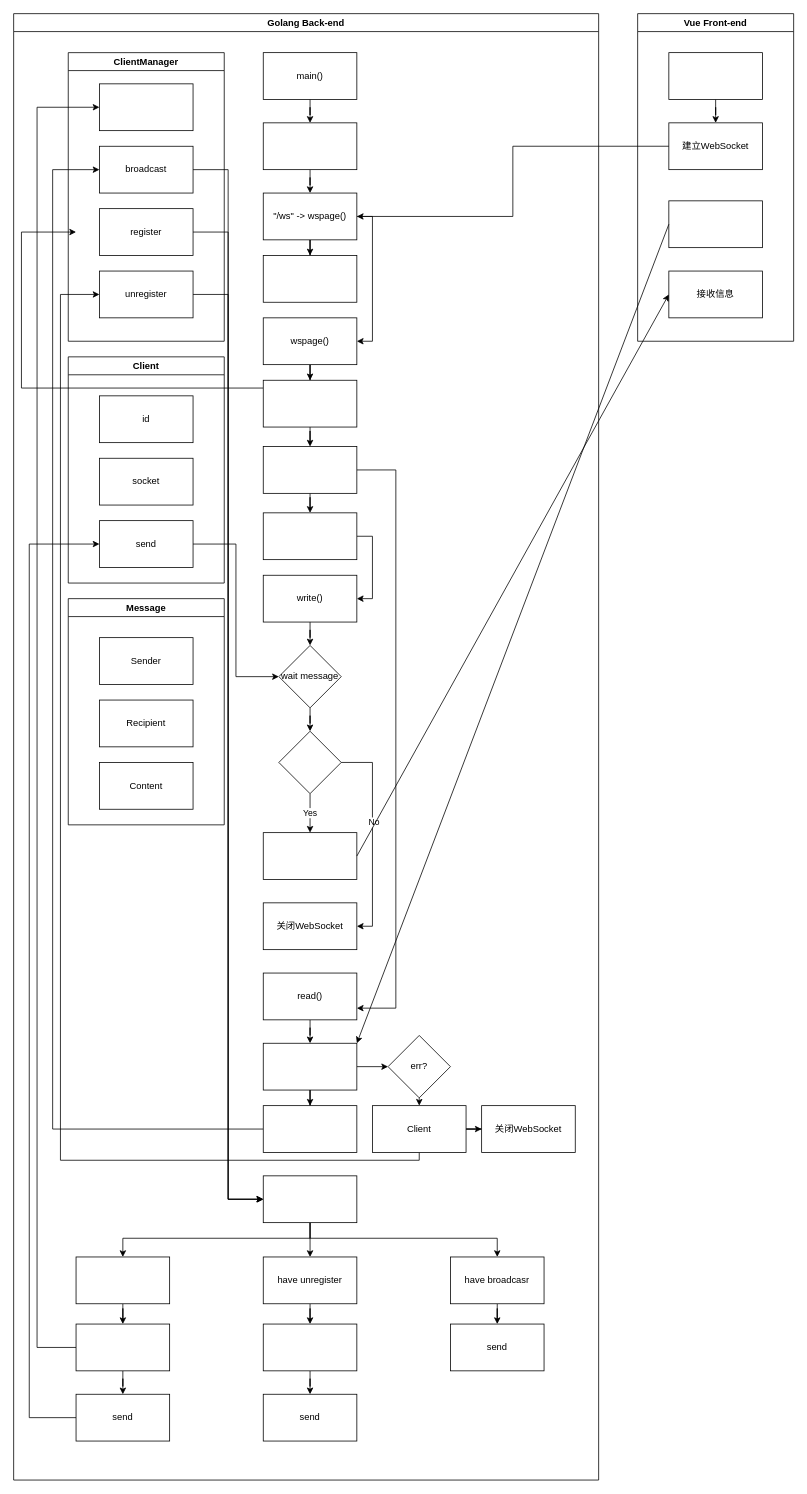
The diagram is 807 pixels wide and 1494 high, and some of its shapes have lost their labels. Here are the shapes that lost their labels. From the top down, the centre of each, then its label:
At (715,75): "挂载根组件".
At (146,107): "clients".
At (309,146): "go *ClientManager.start()".
At (715,224): "发送信息".
At (309,278): "listen :12345".
At (309,403): "建立WebSocket连接".
At (309,469): "go *Client.read()".
At (309,536): "go *Client.write()".
At (309,762): "chan ok?".
At (309,855): "发送message".
At (309,1066): "WebSocket.ReadMessage()".
At (309,1128): "jsonMessage".
At (309,1199): "start()".
At (122,1280): "have register".
At (122,1347): "new client".
At (309,1347): "delete client".
